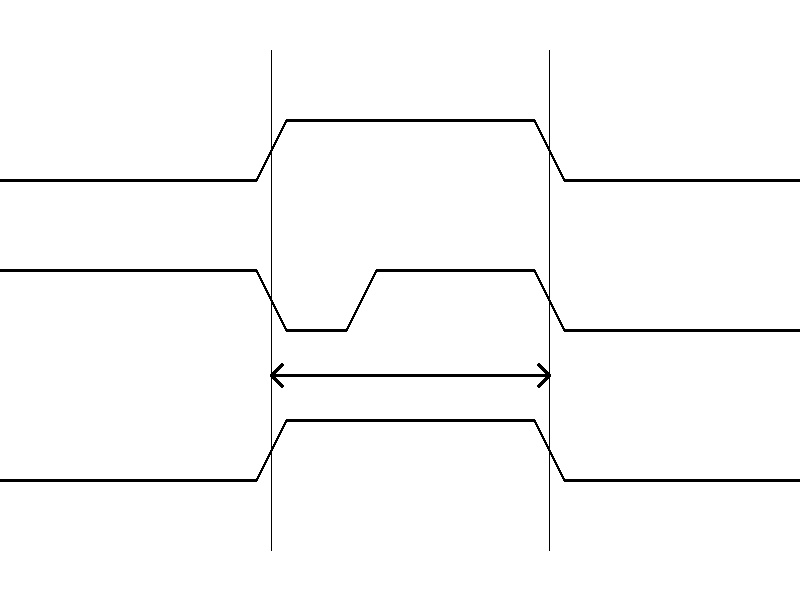double_arrow: (271, 360, 549, 390)
